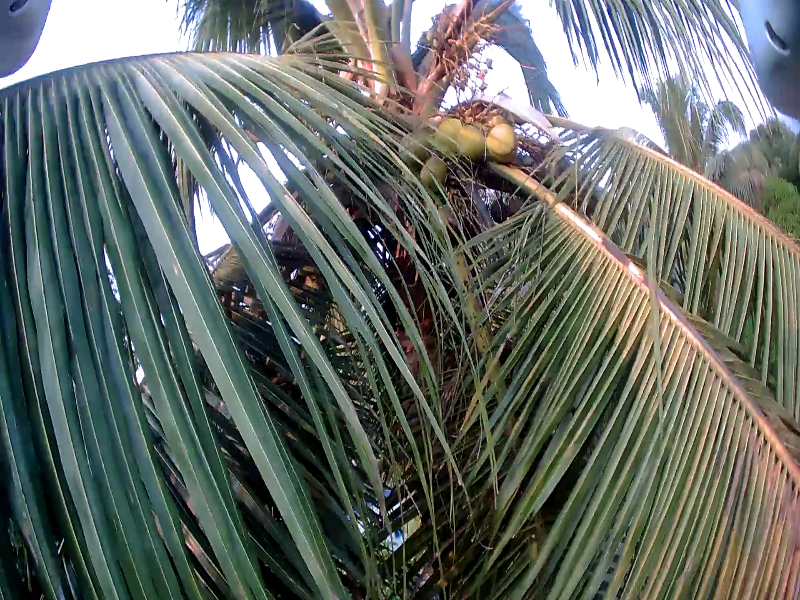coconut: (486, 122, 515, 165), (410, 155, 446, 186), (457, 121, 483, 160), (402, 126, 426, 164), (430, 113, 450, 147)
